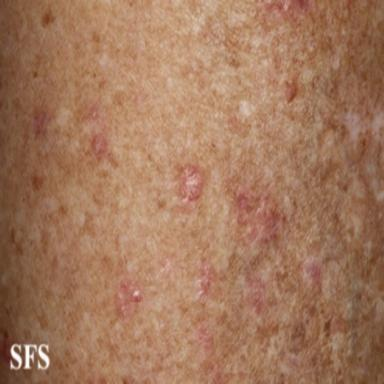Porokeratosis: (235, 189, 285, 243), (115, 277, 143, 319), (179, 164, 203, 203), (245, 273, 265, 318), (197, 259, 215, 300), (32, 110, 52, 140), (304, 260, 322, 287), (197, 324, 212, 356), (91, 133, 108, 160), (89, 105, 99, 120)
